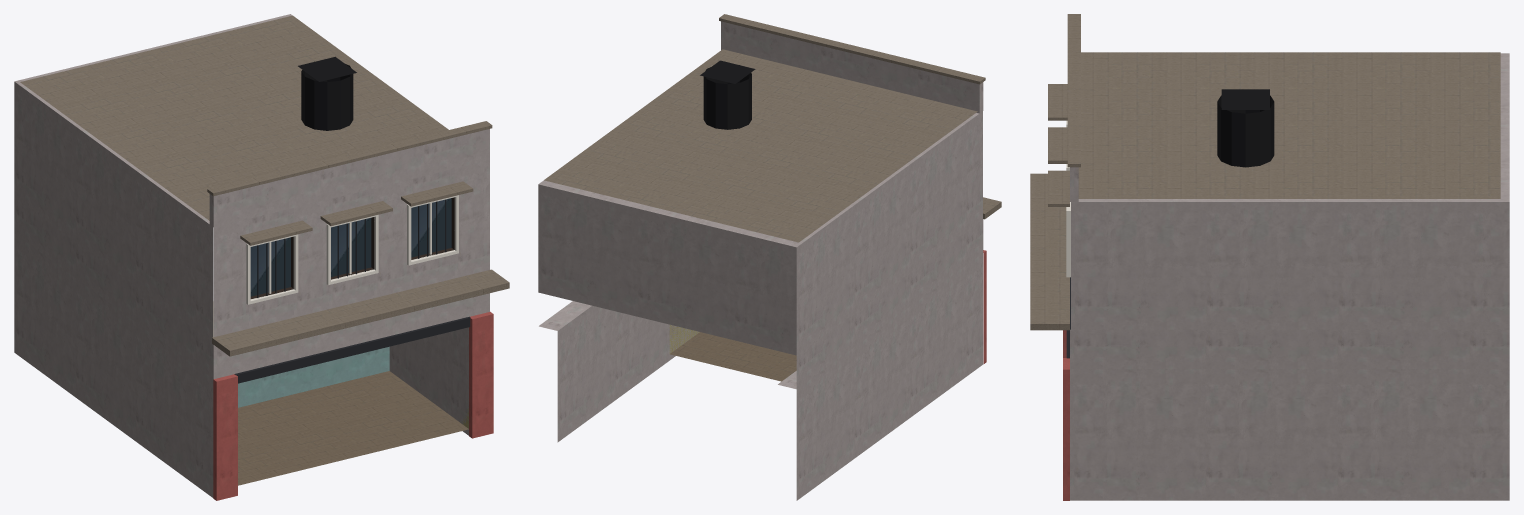
Rendered from ghilli_new.glb.
The picture shows the model from 3 angles, left to right: view 1: azimuth 30°, elevation 25°; view 2: azimuth 150°, elevation 25°; view 3: azimuth 270°, elevation 25°; orthographic projection. The views are drawn at different scales.
Parts seen in each view (by area): view 1: ghilli_new_0, ghilli_new_7, ghilli_new_4, ghilli_new_1, ghilli_new_8, ghilli_new_6, ghilli_new_2, ghilli_new_11, ghilli_new_10, ghilli_new_9; view 2: ghilli_new_0, ghilli_new_7, ghilli_new_4, ghilli_new_11; view 3: ghilli_new_0, ghilli_new_7, ghilli_new_11, ghilli_new_1.
Part boxes in pixels (<box>): ghilli_new_0: <box>14,14,489,497</box>; ghilli_new_7: <box>20,15,509,356</box>; ghilli_new_4: <box>238,371,468,485</box>; ghilli_new_1: <box>213,311,493,500</box>; ghilli_new_8: <box>250,198,451,296</box>; ghilli_new_6: <box>234,199,470,383</box>; ghilli_new_2: <box>238,346,389,407</box>; ghilli_new_11: <box>298,56,356,130</box>; ghilli_new_10: <box>246,195,458,304</box>; ghilli_new_9: <box>250,197,454,298</box>; ghilli_new_0: <box>538,21,983,500</box>; ghilli_new_7: <box>544,14,1001,242</box>; ghilli_new_4: <box>670,332,796,381</box>; ghilli_new_11: <box>700,60,755,129</box>; ghilli_new_0: <box>1070,53,1509,500</box>; ghilli_new_7: <box>1030,14,1500,330</box>; ghilli_new_11: <box>1217,89,1274,167</box>; ghilli_new_1: <box>1063,330,1069,500</box>.
Size of the model in its own units: 8.1 by 8.95 by 10.9.
12 materials, 12 textured.
